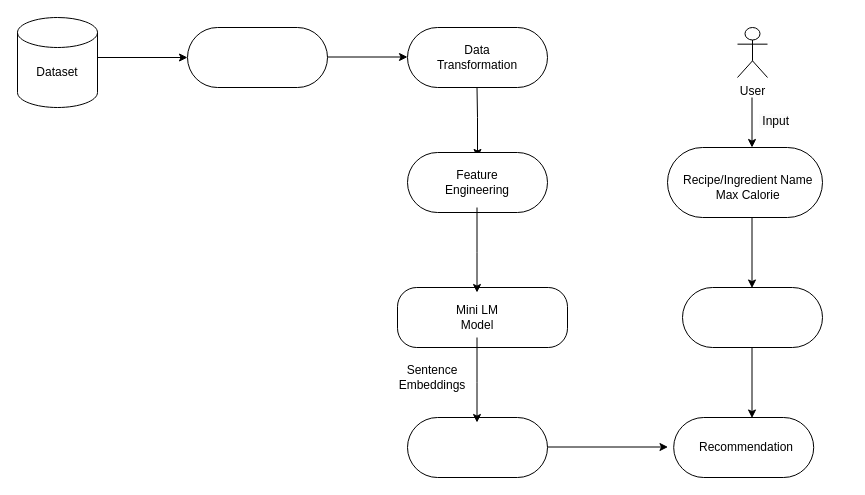
This 865x495 diagram has some shape labels left out. The shapes that lost their labels are listed below. From the top down, each one's centre as x and y in pixels, then its label:
At pixel 257 57: "Data Preprocessing".
At pixel 752 317: "GUI".
At pixel 477 447: "Similarity Calculation".
